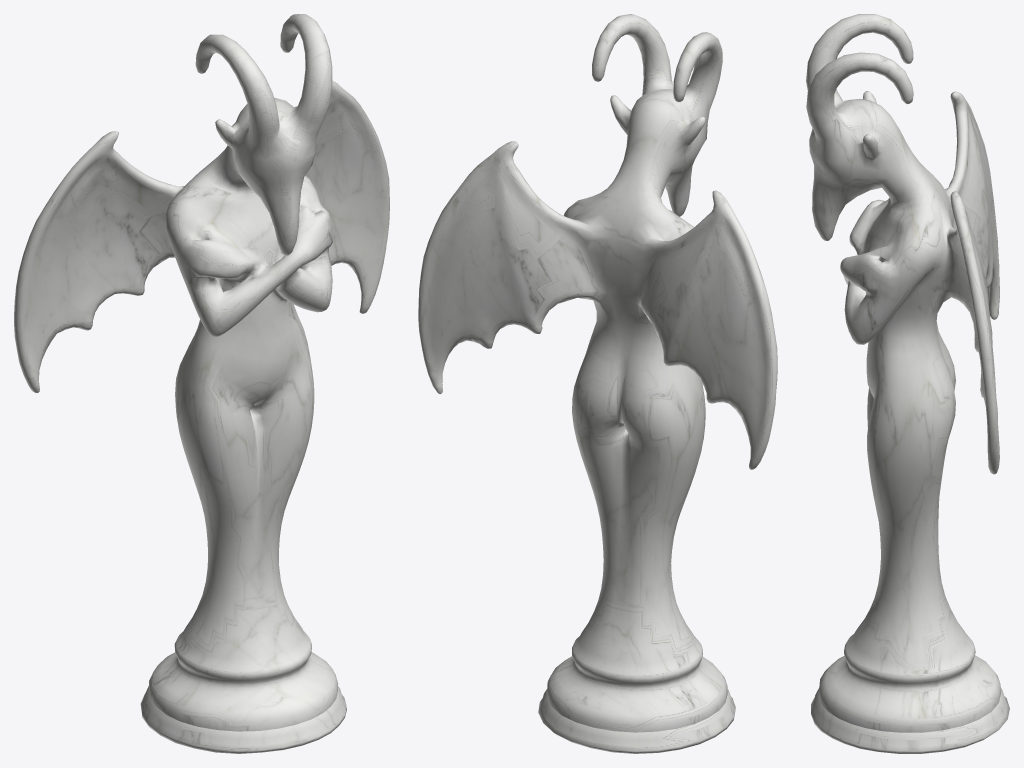
The model's file is demonwhite.glb.
3 views of the same model, side by side, from view 1: azimuth 30°, elevation 25°; view 2: azimuth 150°, elevation 25°; view 3: azimuth 270°, elevation 25° (orthographic). The views are drawn at different scales.
Bounding box in the file's own units: 1.11 × 1.99 × 0.5422.
1 material, 1 textured.
